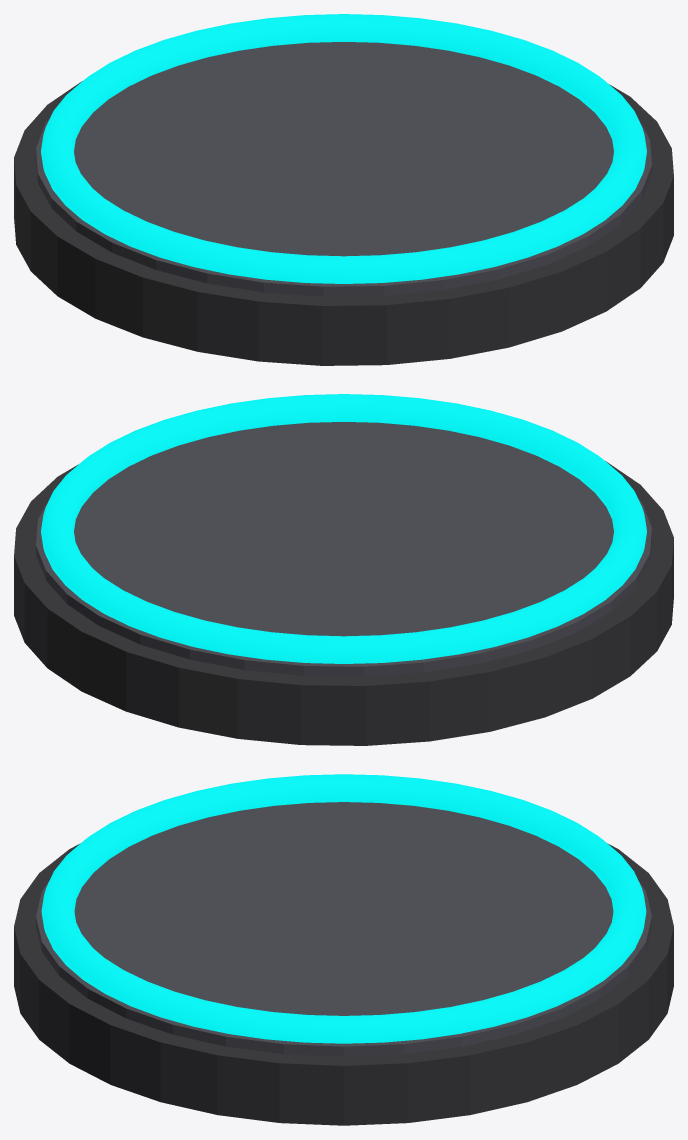
The model's file is MarkerPad.glb.
3 renders of one model, top to bottom at view 1: azimuth 30°, elevation 25°; view 2: azimuth 150°, elevation 25°; view 3: azimuth 270°, elevation 25°, orthographic.
Parts seen in each view (by area): view 1: MarkerPad_Top, MarkerPad_Base, MarkerPad_Ring; view 2: MarkerPad_Top, MarkerPad_Base, MarkerPad_Ring; view 3: MarkerPad_Top, MarkerPad_Base, MarkerPad_Ring.
Boxes of the visible parts, x1=… form: MarkerPad_Top: x1=36, y1=42, x2=651, y2=296; MarkerPad_Base: x1=14, y1=81, x2=673, y2=365; MarkerPad_Ring: x1=41, y1=14, x2=646, y2=283; MarkerPad_Top: x1=36, y1=422, x2=651, y2=676; MarkerPad_Base: x1=14, y1=461, x2=673, y2=745; MarkerPad_Ring: x1=41, y1=394, x2=646, y2=663; MarkerPad_Top: x1=36, y1=802, x2=651, y2=1056; MarkerPad_Base: x1=14, y1=843, x2=673, y2=1125; MarkerPad_Ring: x1=41, y1=774, x2=646, y2=1043.
Size of the model in its own units: 1.2 by 0.18 by 1.2.
